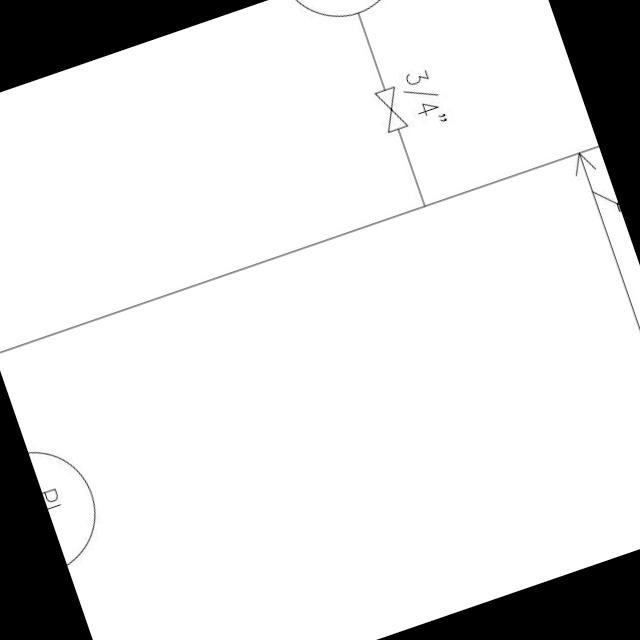GV: (369, 80, 413, 139)
